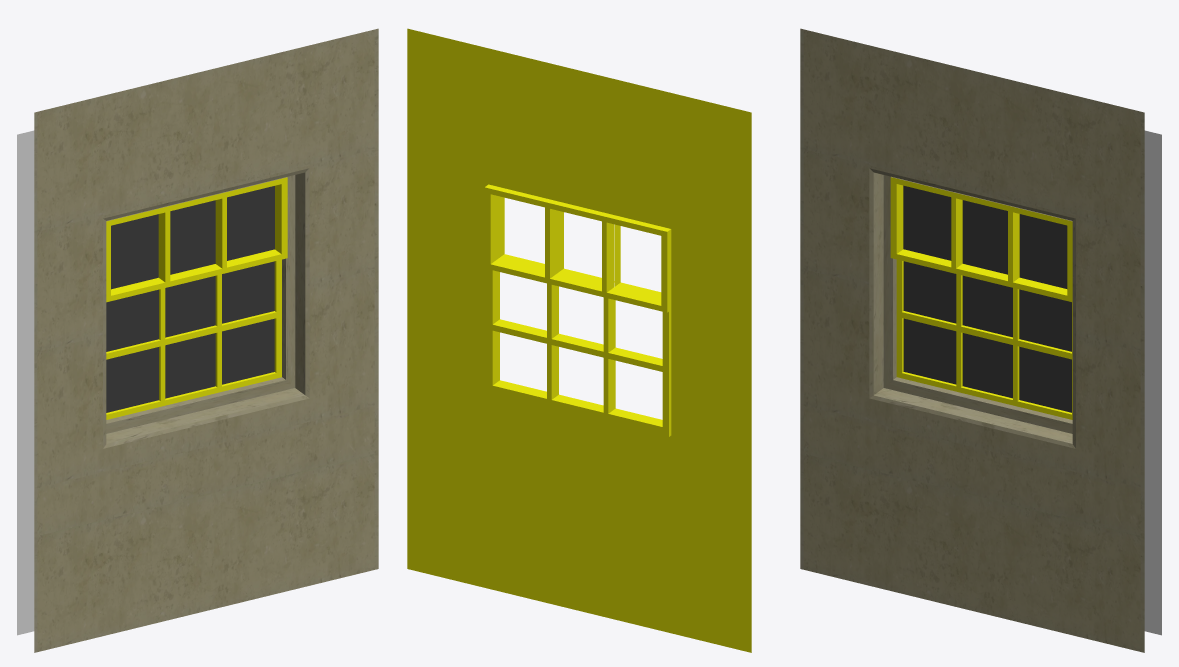
File: trim-window.glb
The picture shows the model from 3 angles, left to right: view 1: azimuth 30°, elevation 25°; view 2: azimuth 150°, elevation 25°; view 3: azimuth 330°, elevation 25°; orthographic projection.
Visible parts, largest first — view 1: Trim_Window; view 2: Trim_Window; view 3: Trim_Window.
Part boxes in pixels (box(x1,y1,x2,y2)): Trim_Window: box(17, 28, 378, 652); Trim_Window: box(407, 28, 751, 652); Trim_Window: box(800, 28, 1161, 652).
Size of the model in its own units: 2 by 3 by 0.2397.
4 materials, 1 textured.
